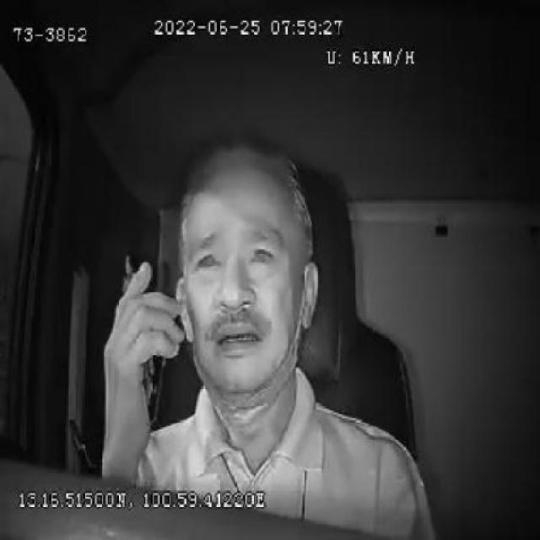phone: (119, 246, 165, 428)
